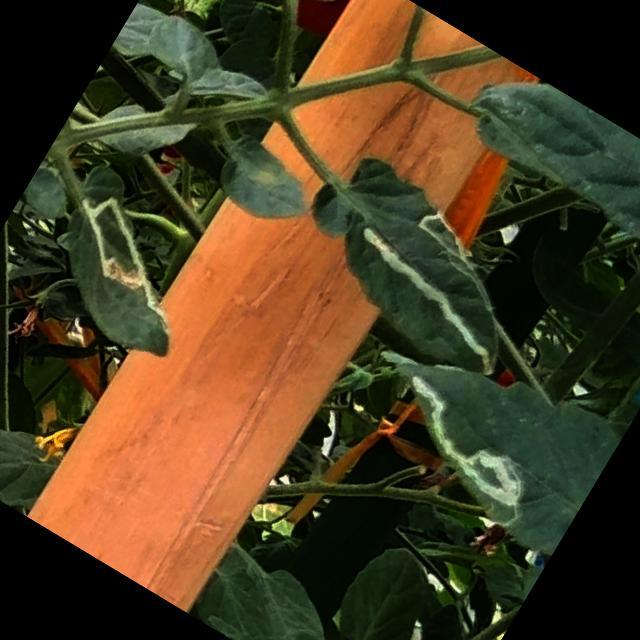Tomato healthy leaf: (319, 531, 456, 640)
Tomato target spot leaf: (269, 136, 562, 395), (339, 303, 628, 562), (18, 157, 240, 376)
